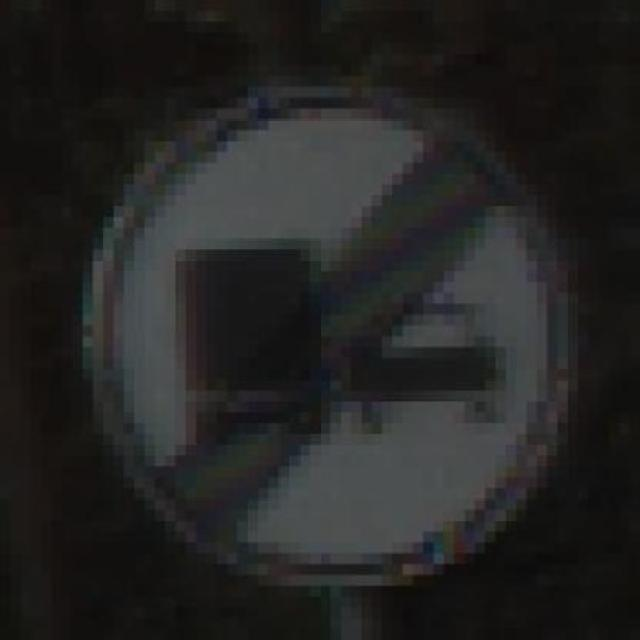Overtaking by trucks is prohibited: (21, 75, 619, 597)
